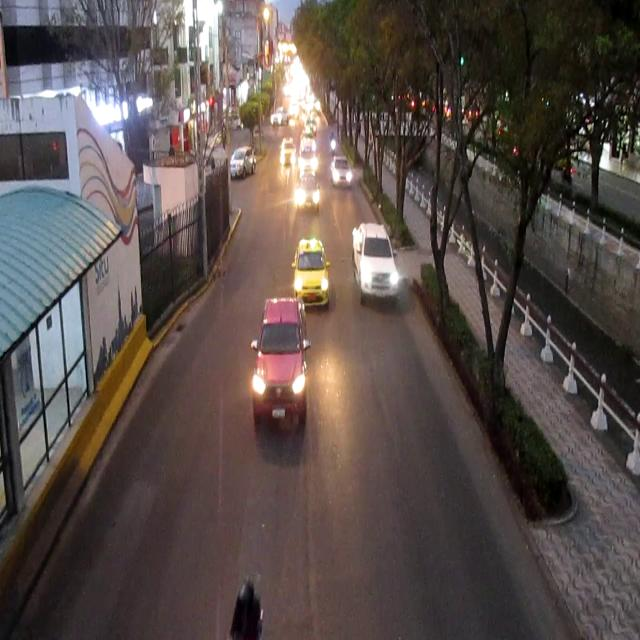CMT: (351, 224, 399, 304)
MOTORCYCLE: (227, 578, 261, 640)
SED: (295, 243, 328, 308)
SUV: (232, 150, 256, 179)
